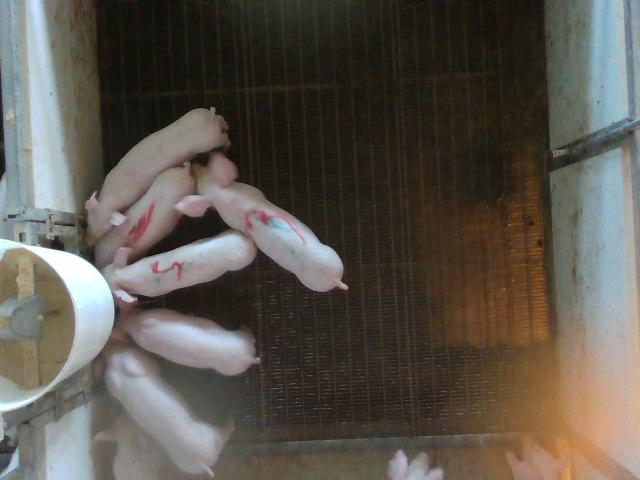pig-1: (95, 162, 196, 268)
pig-3: (176, 152, 348, 291)
pig-5: (102, 230, 256, 303)
